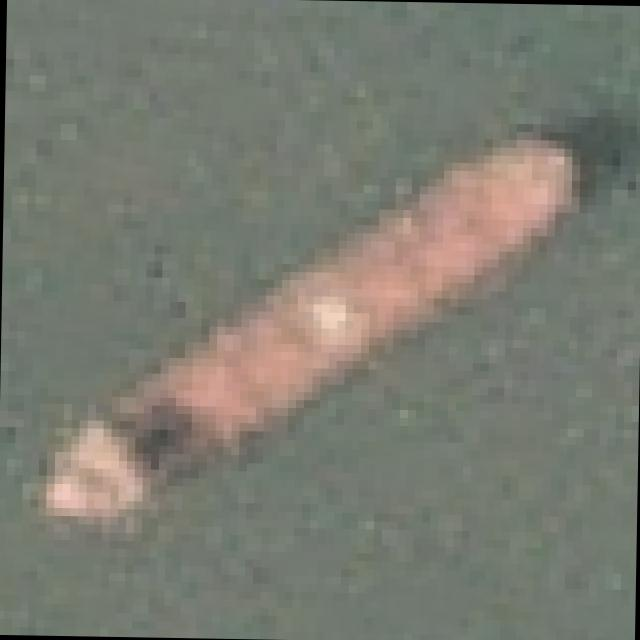ship: (11, 116, 589, 556)
